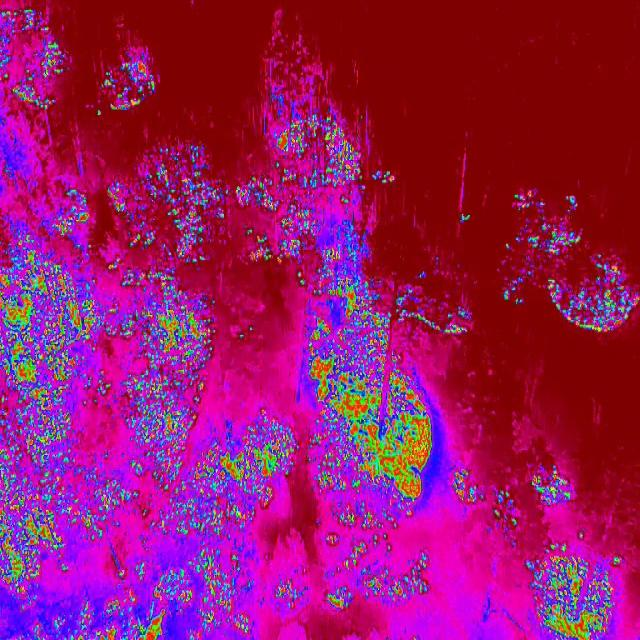fire: (0, 146, 432, 640), (502, 188, 640, 334), (524, 531, 622, 640), (0, 2, 78, 112), (266, 88, 360, 146), (90, 43, 163, 117), (454, 467, 522, 535), (533, 459, 575, 509), (432, 302, 472, 343)
